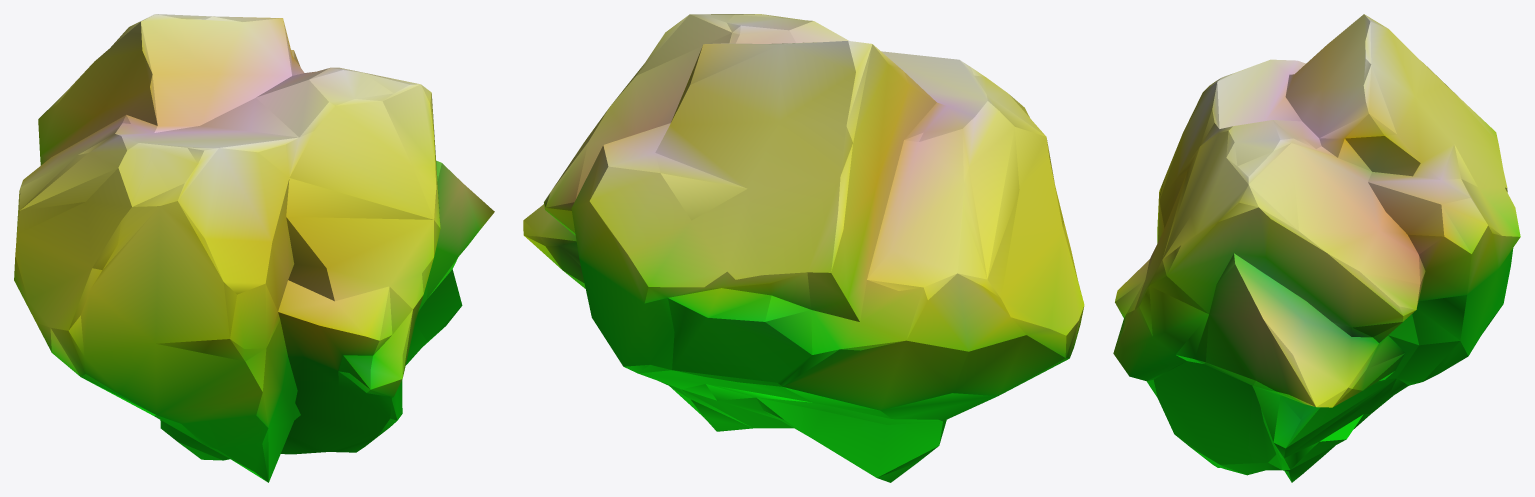
The model's file is rock_clump_01_LOD1.fbx.
3 renders of one model, left to right at view 1: azimuth 30°, elevation 25°; view 2: azimuth 150°, elevation 25°; view 3: azimuth 270°, elevation 25°, orthographic. The views are drawn at different scales.
Parts seen in each view (by area): view 1: LOD1; view 2: LOD1; view 3: LOD1.
Boxes of the visible parts, x1,y1,x2,y2 form: LOD1: [14, 14, 494, 482]; LOD1: [523, 14, 1084, 482]; LOD1: [1113, 14, 1520, 482].
Bounding box in the file's own units: 1301 × 1112 × 1035.
